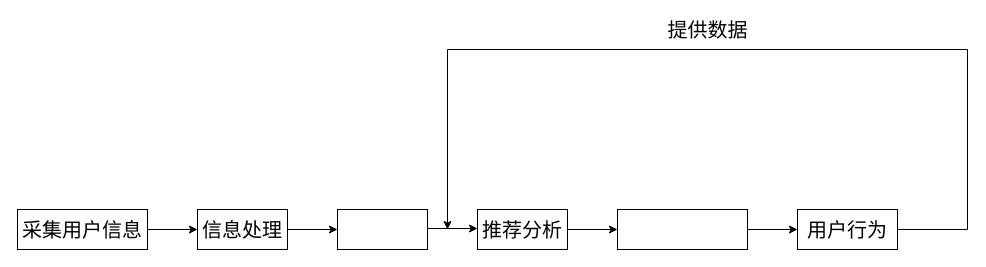
Some shapes in this 986 by 267 pixel diagram are drawn without their labels. The shapes that lost their labels are listed below. From the top down, each one's box as (x1, y1, x2, y2) in pixels, then its label:
(336, 208, 428, 250): 信息分析
(616, 208, 748, 250): 社团推荐展示
